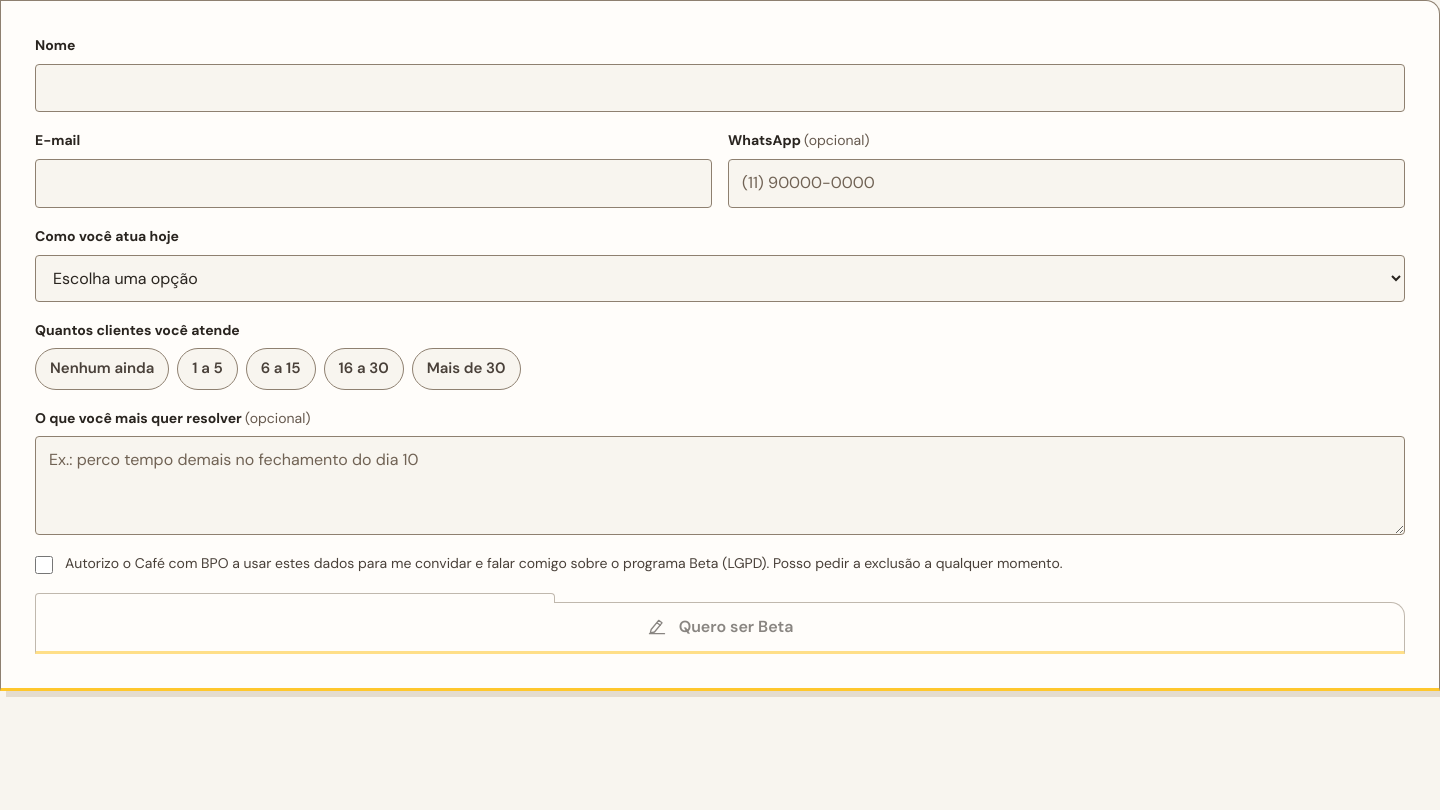
Test: BetaSignupForm › sends the data with source "home" and says thanks
The width and height of the screenshot is (1440, 810).
Type "Ana Operadora" into the field labelled "Nome" at [720, 88], box [35,64,1405,112]
Type "ana@cafe.com" into the field labelled "E-mail" at [374, 184], box [35,159,712,208]
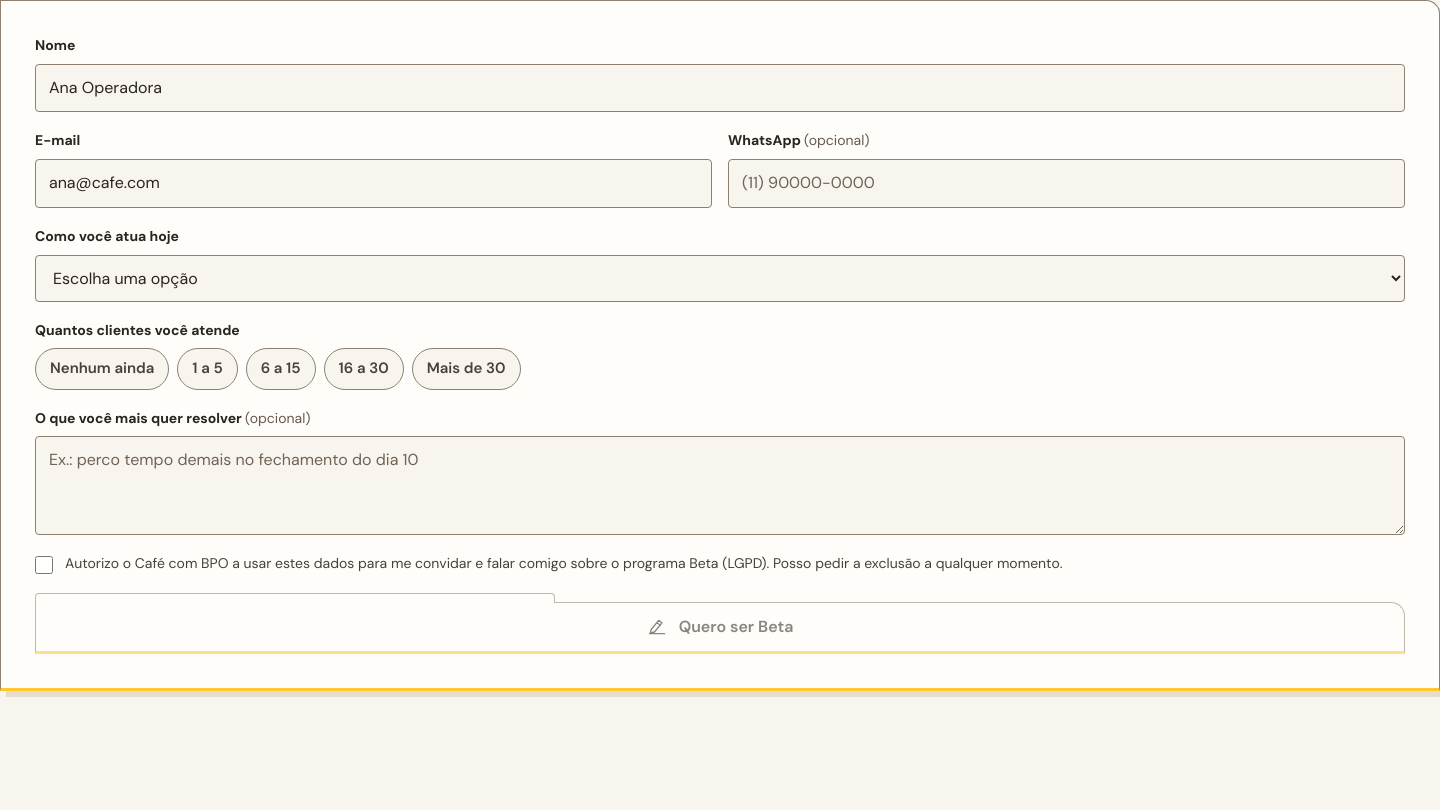
Type "(11) 98765-4321" into the field labelled "WhatsApp (opcional)" at [1066, 184], box [728,159,1405,208]
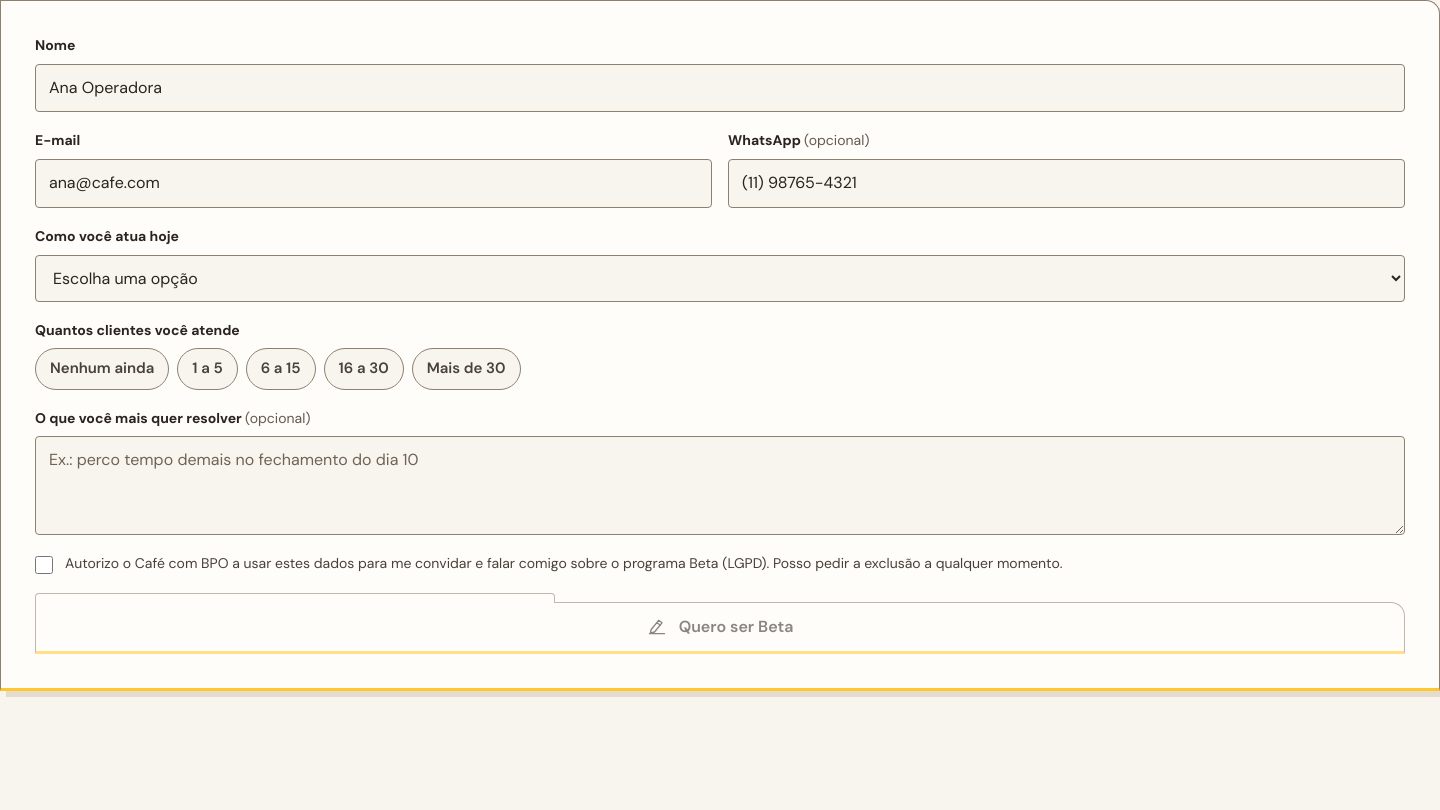
Select "Já tenho clientes e estou crescendo" in the dropdown labelled "Como você atua hoje" at [720, 278], box [35,255,1405,302]
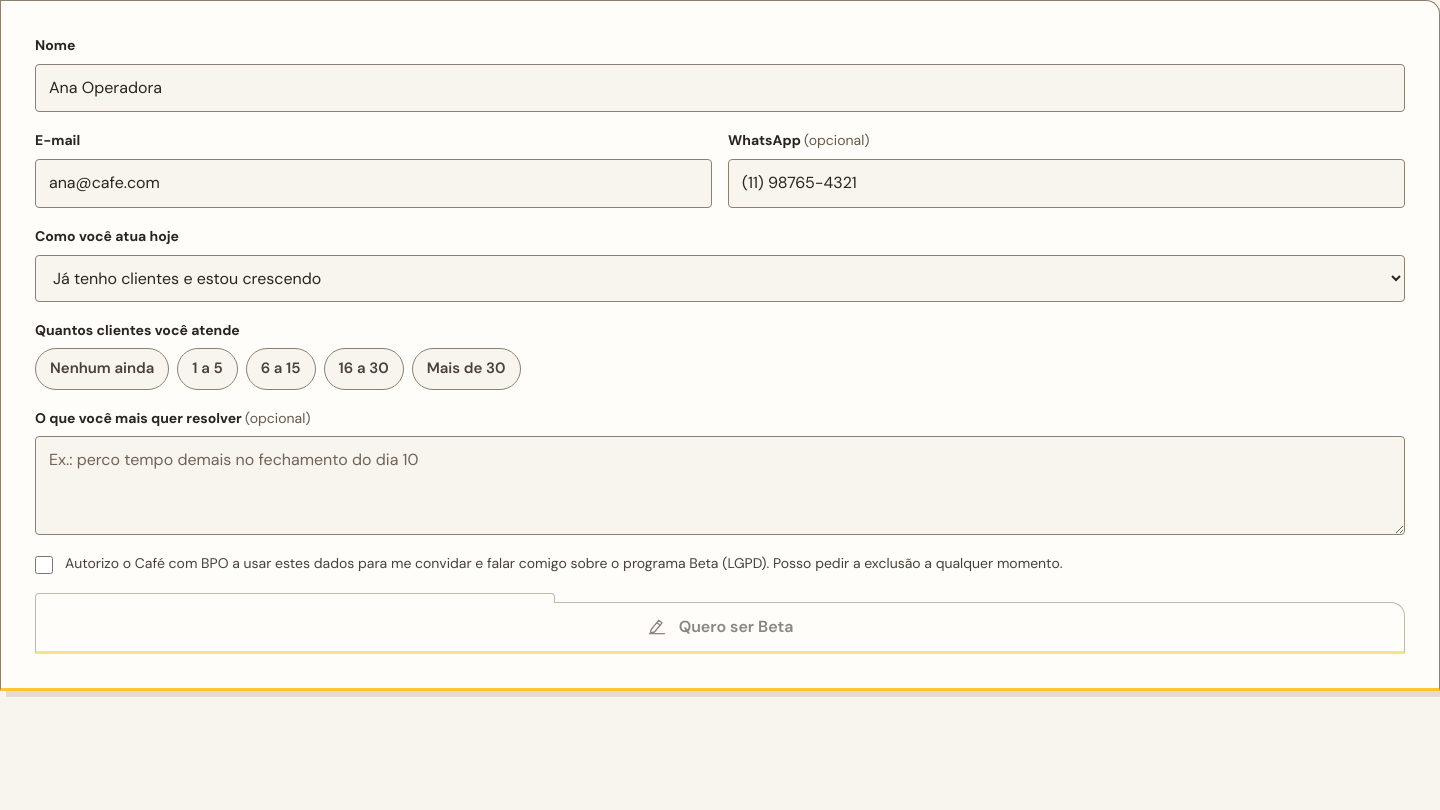
Click the radio button labelled "6 a 15" at [281, 369], box [246,348,316,390]
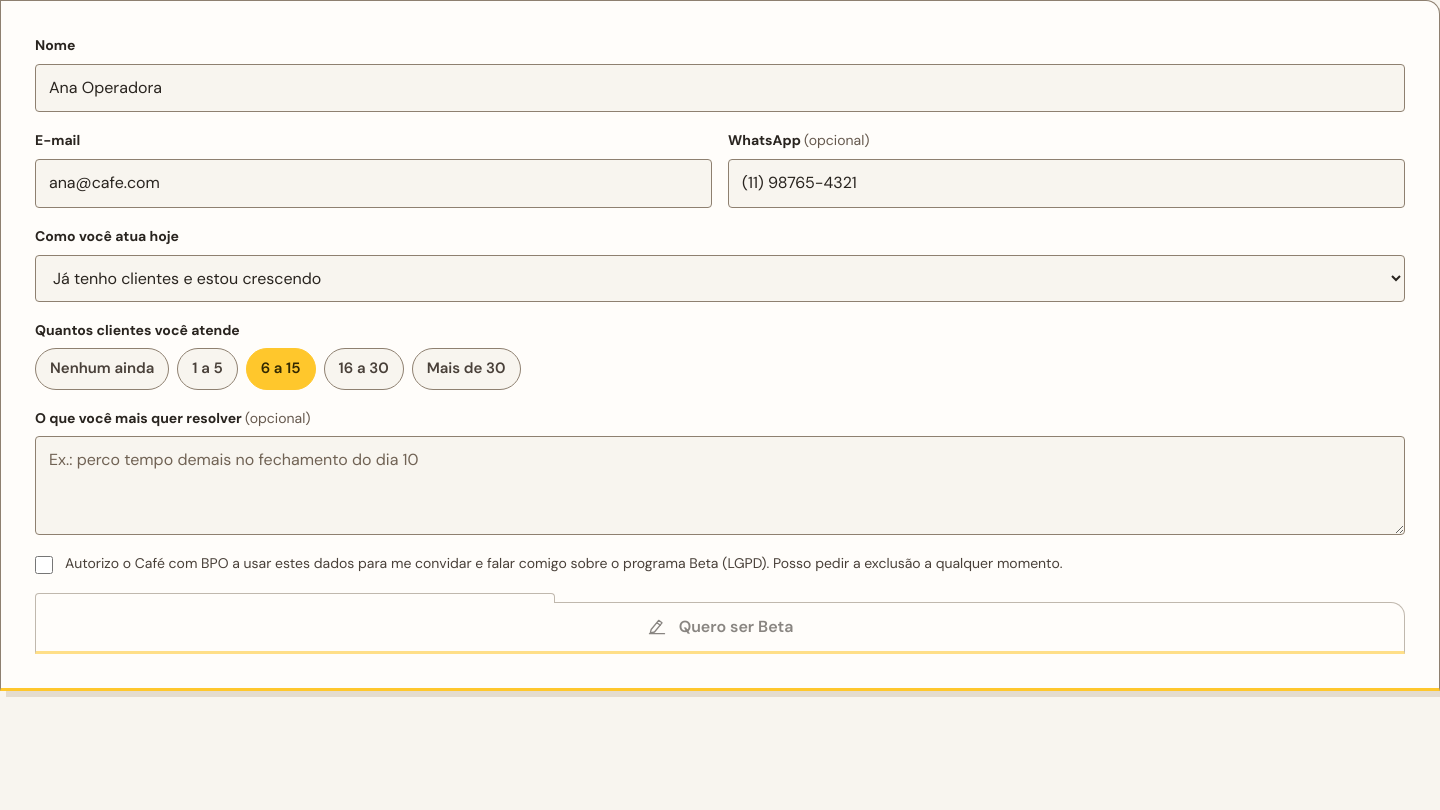
Click the checkbox at [44, 565], box [35,556,53,574]
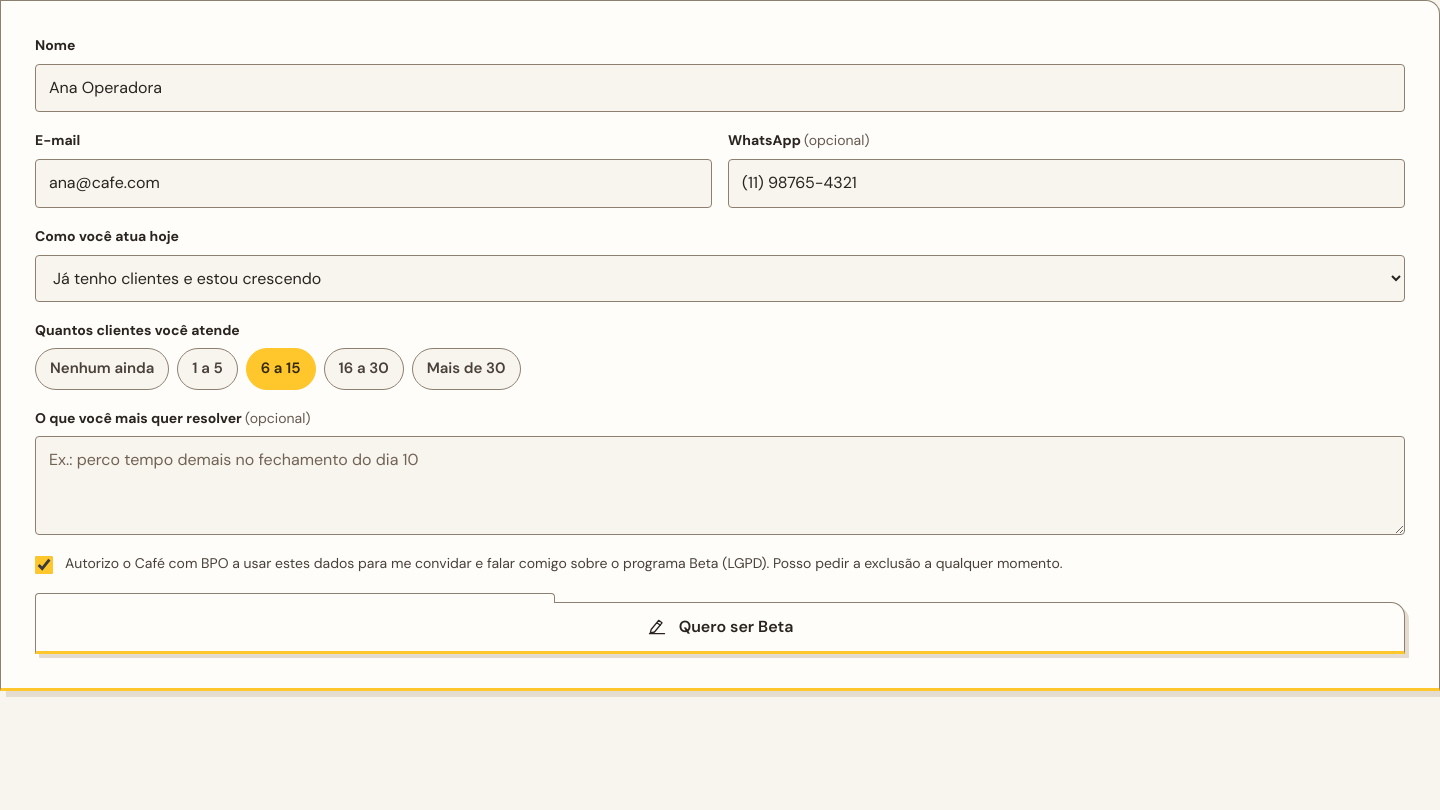
Click the button "Quero ser Beta" at [720, 628], box [35,602,1405,654]
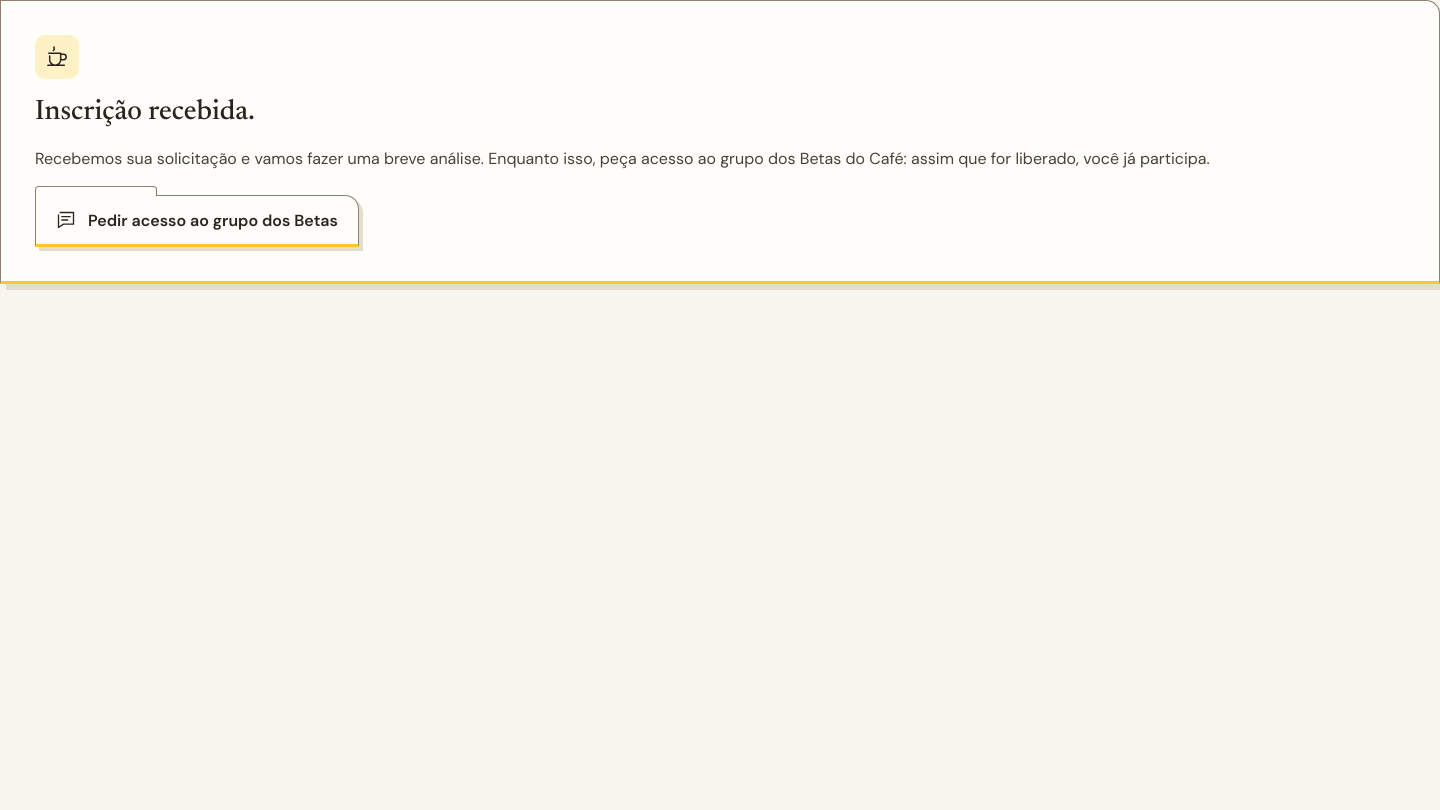
Now the heading "Inscrição recebida." is shown, box [35,98,255,126]
